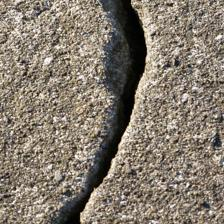Crack: (53, 4, 154, 223)
